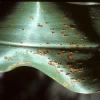Corn rust leaf: (0, 0, 99, 96)
